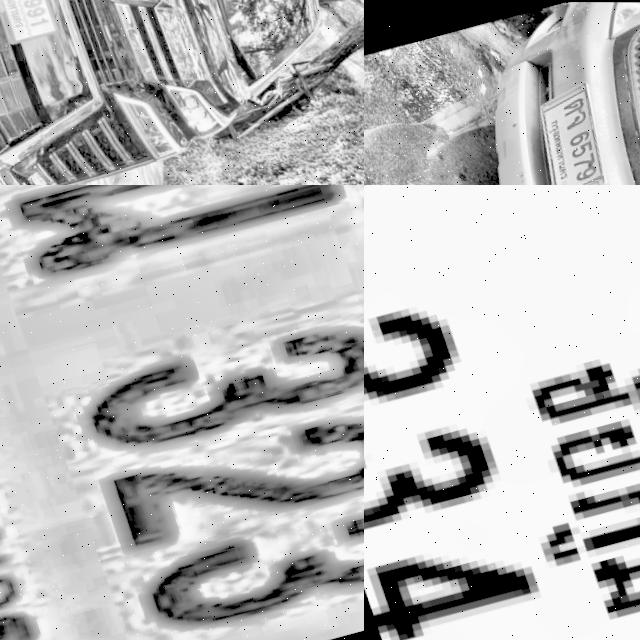license-plate: (0, 185, 364, 640), (364, 185, 640, 640), (513, 78, 624, 185), (0, 0, 55, 47)
